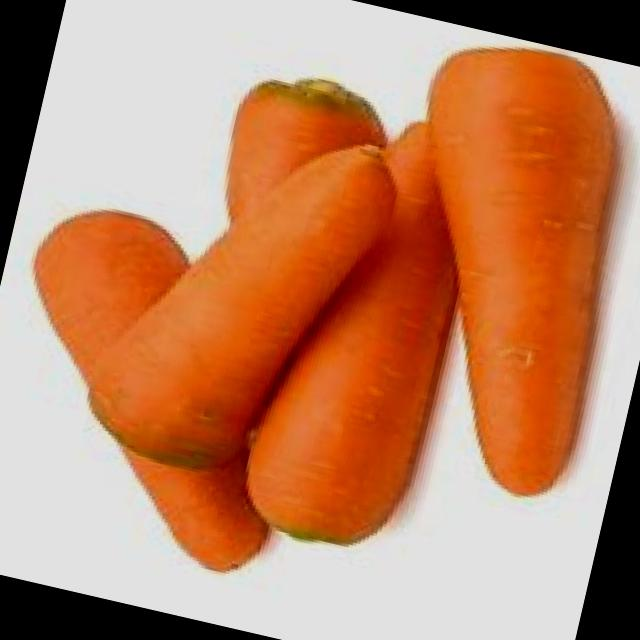carrot: (79, 137, 398, 468), (247, 123, 461, 549), (426, 45, 619, 498)
